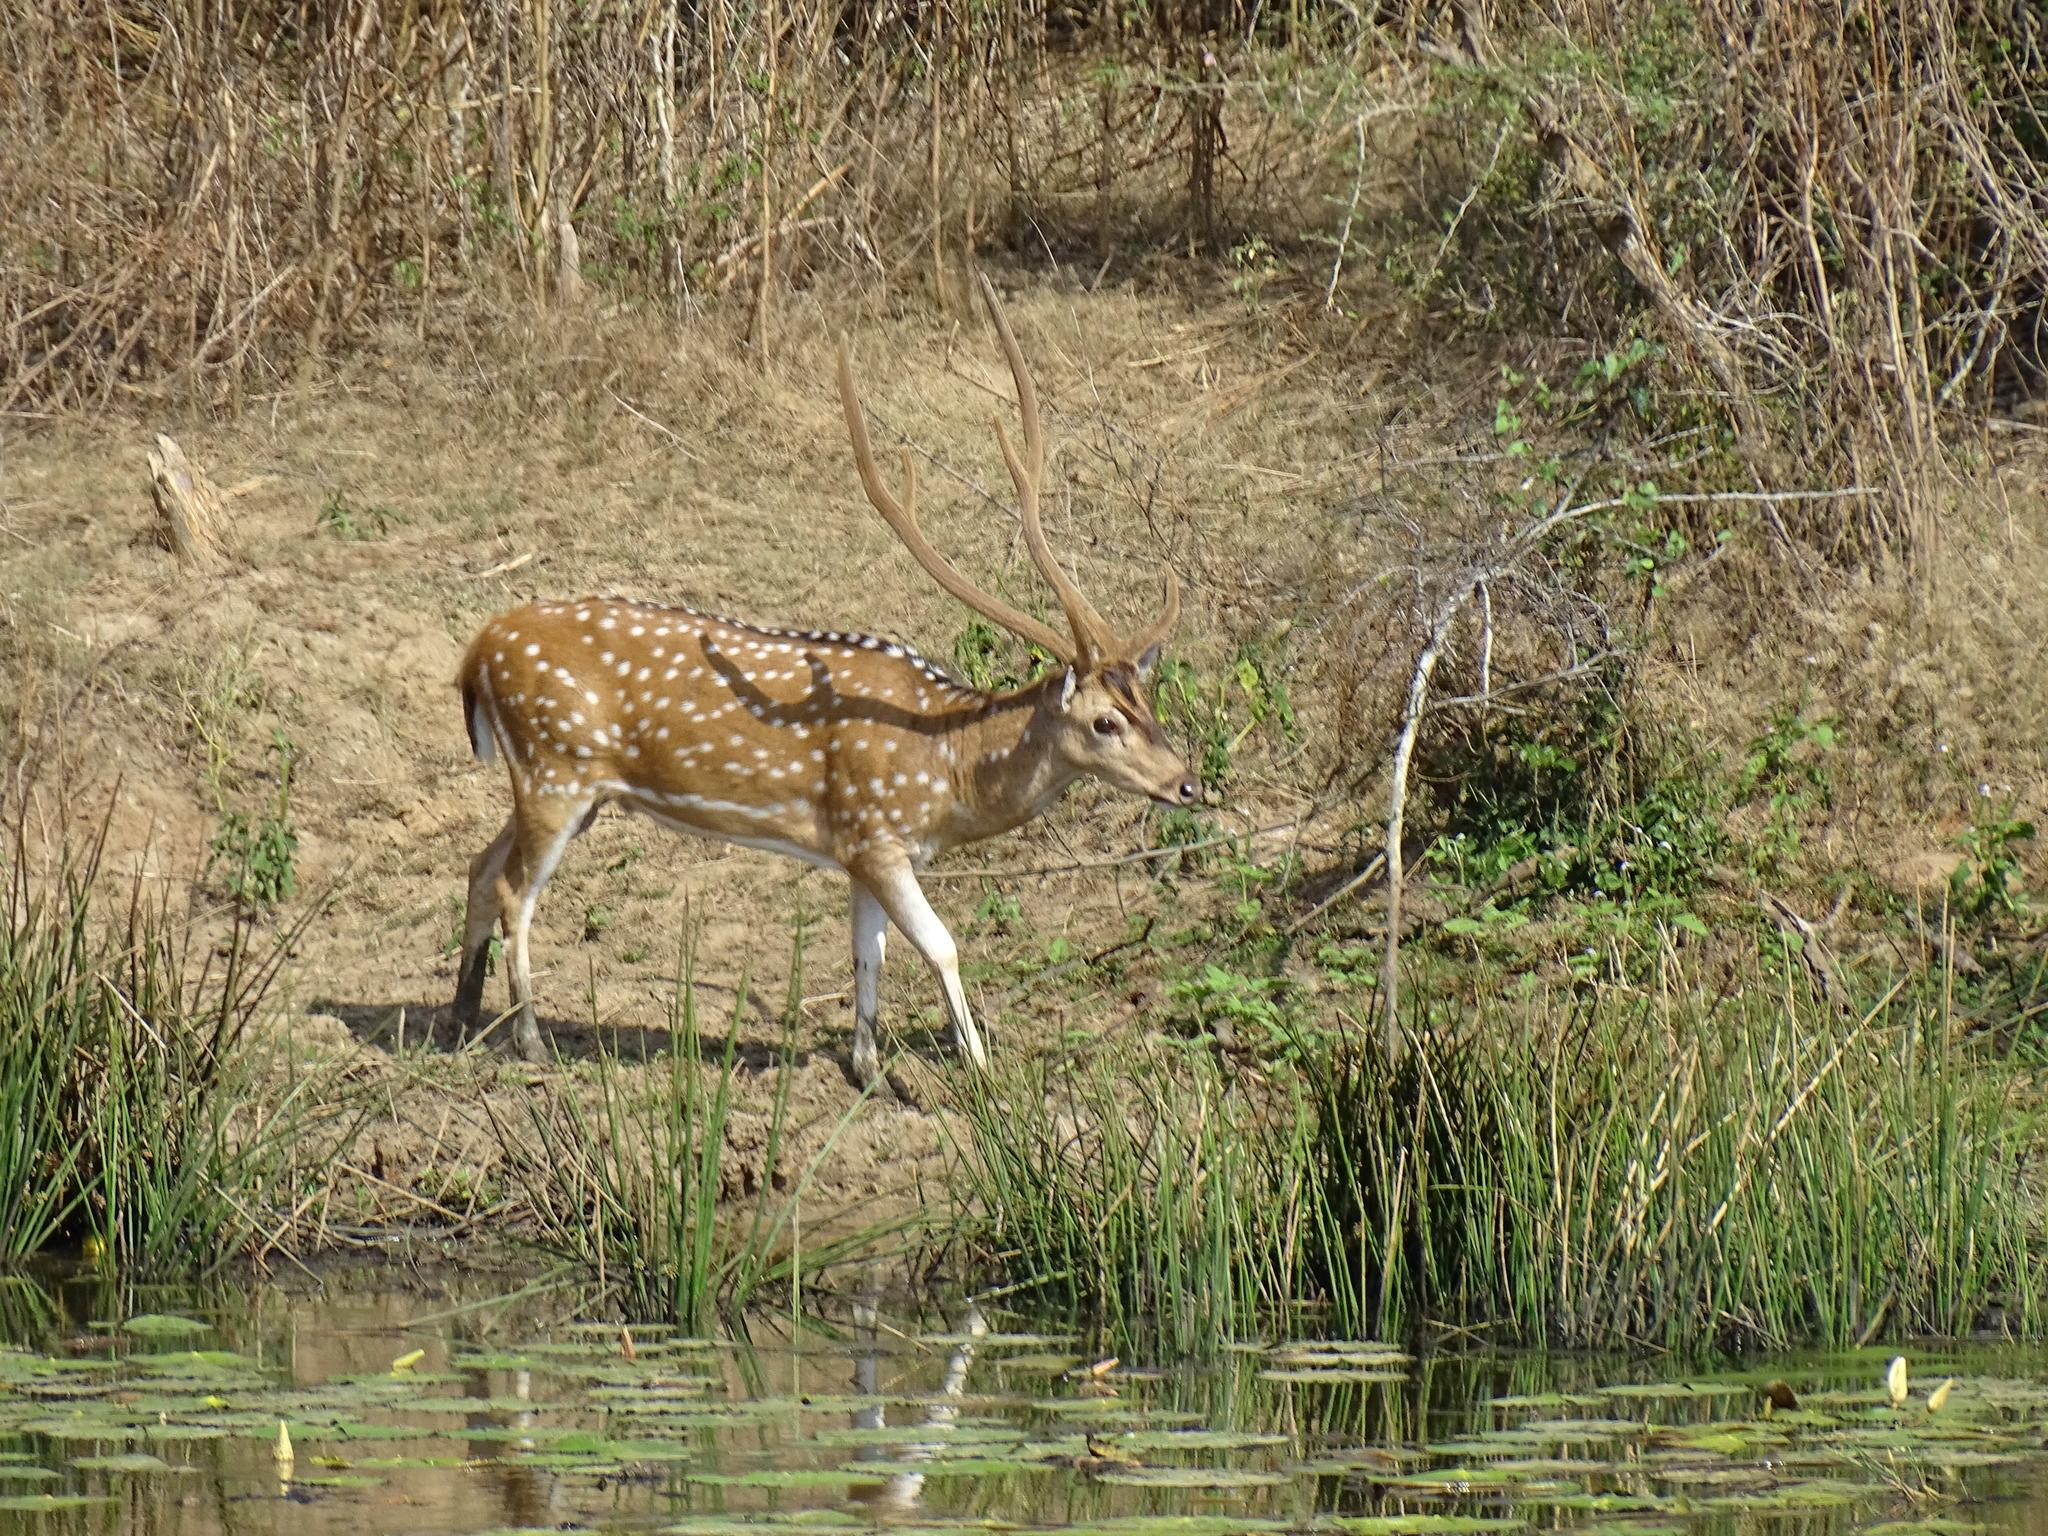Deer: (453, 269, 1201, 1084)
